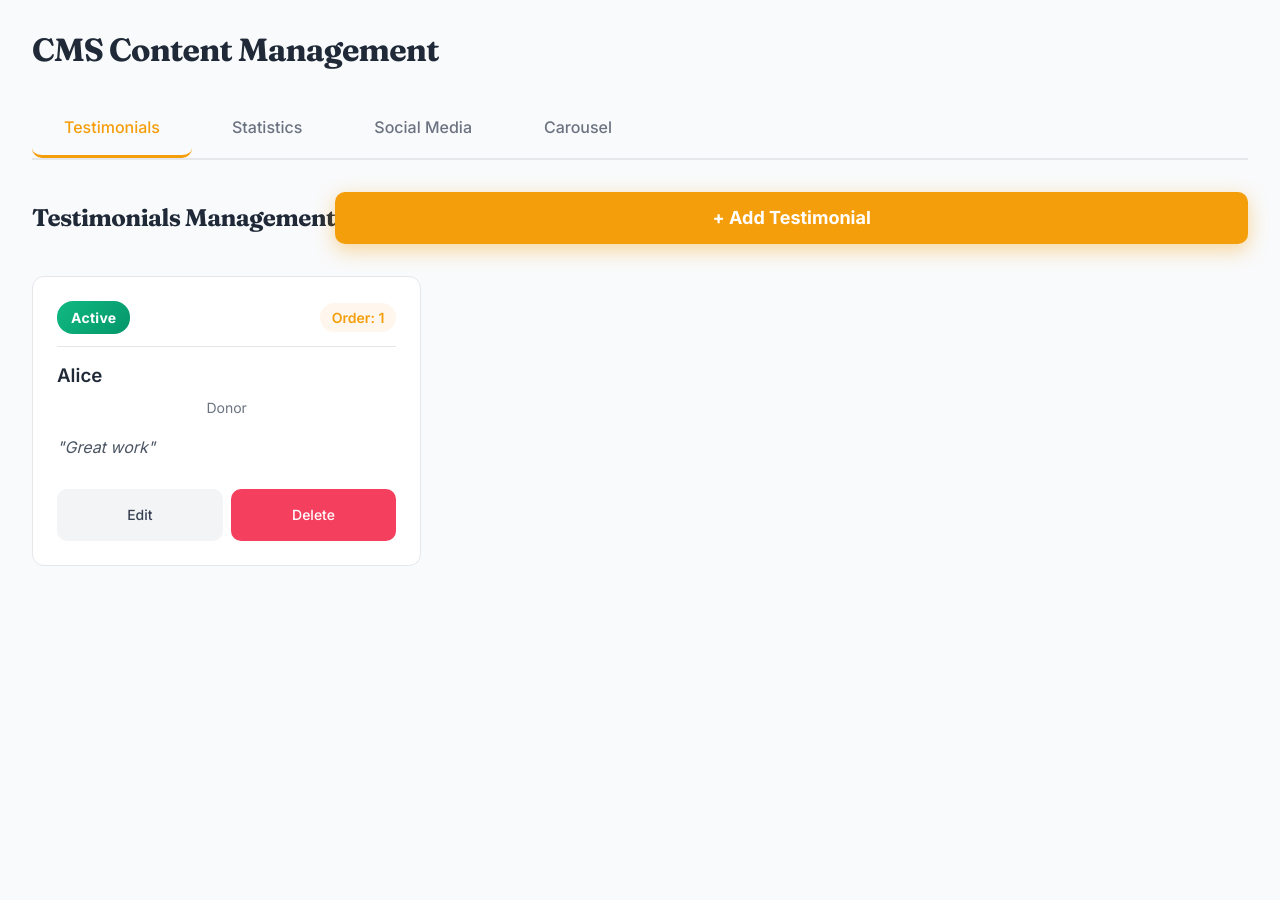
AdminCMS › clicking Add Testimonial shows the testimonial form
The image size is (1280, 900).
Check: the heading "Alice" is shown, box [57,364,102,387]
Step 1. Click the button "+ Add Testimonial" → (792, 218), box [336,192,1248,244]
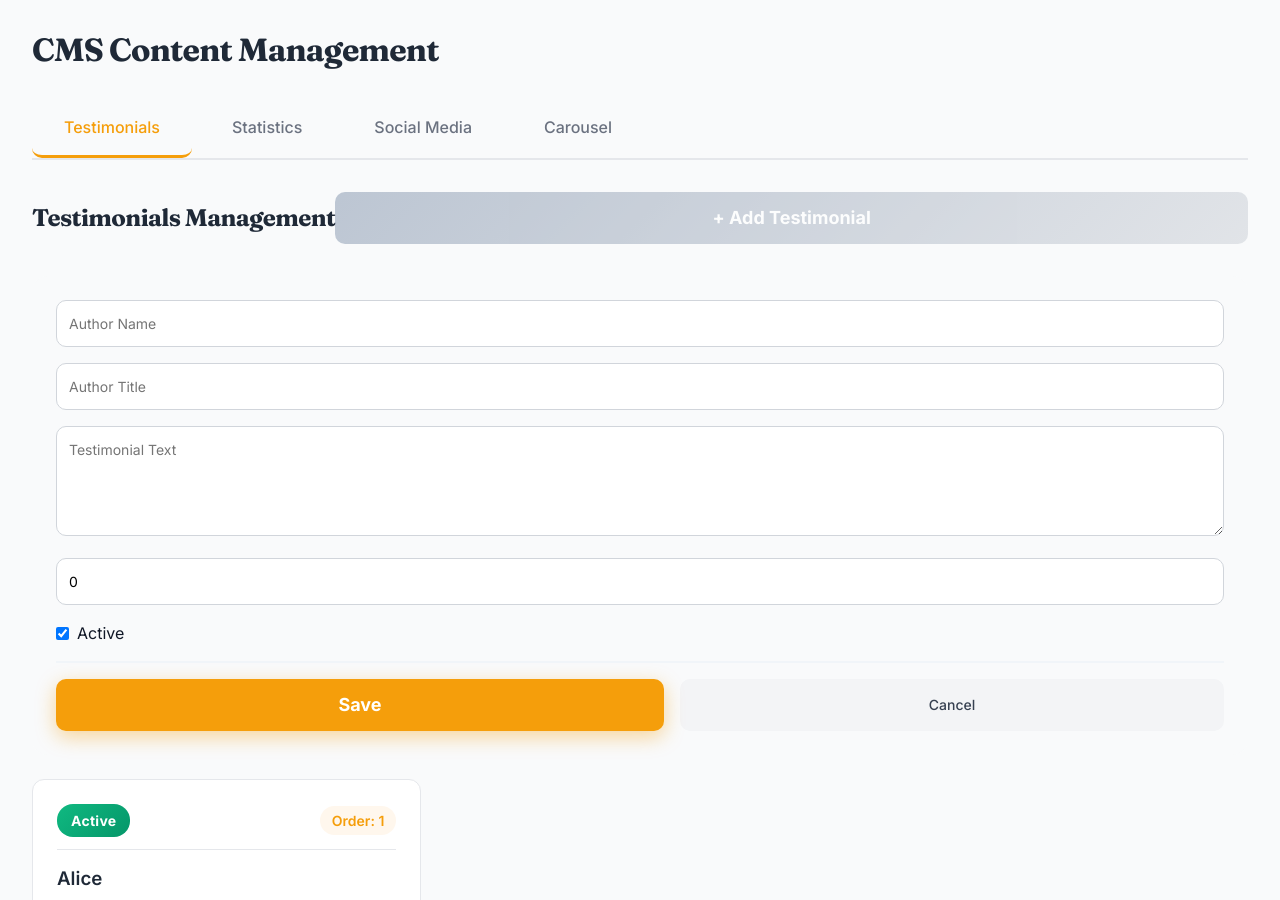
Check: the field with placeholder "Author Name" is shown, box [56,300,1224,347]
Check: the text box with placeholder "Testimonial Text" is shown, box [56,426,1224,536]
